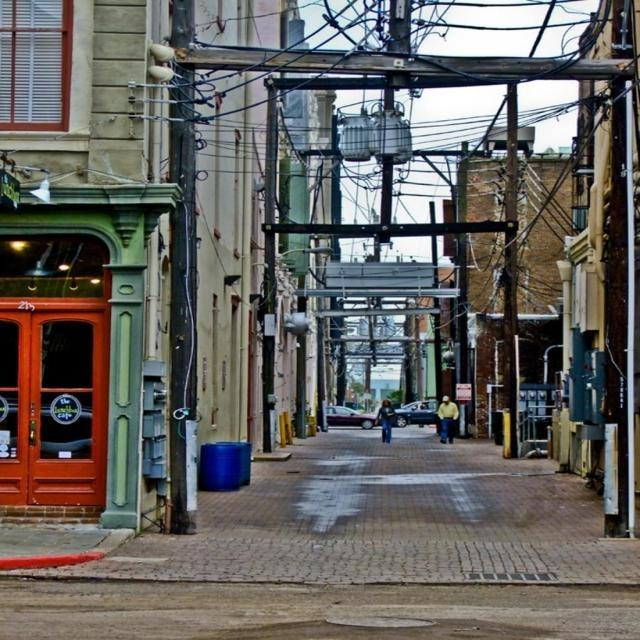door: (0, 220, 134, 530)
